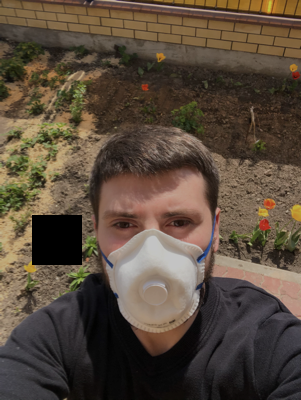with_mask: (100, 188, 210, 334)
